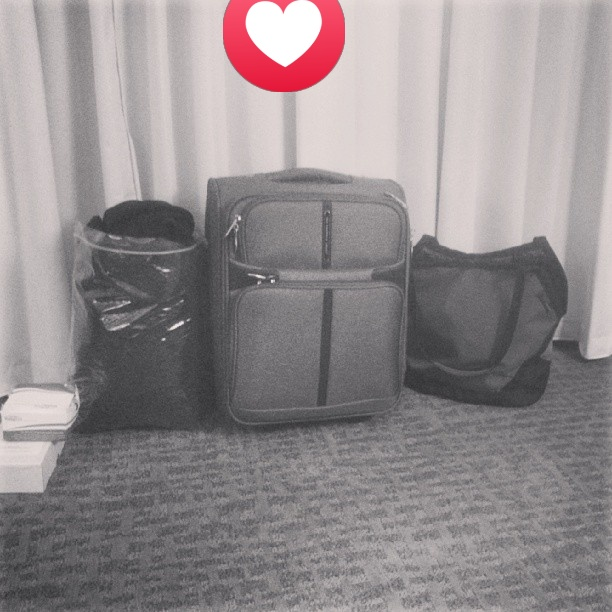love: (223, 0, 345, 92)
